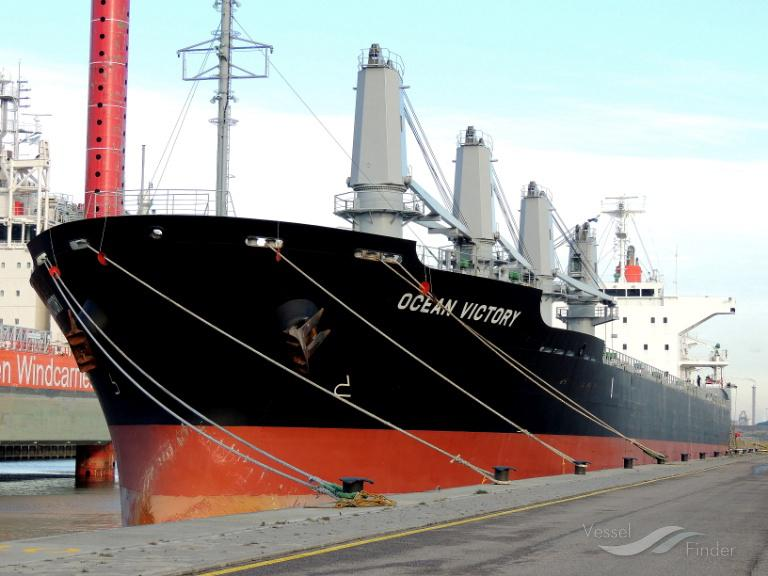OCR: (385, 276, 524, 333)
